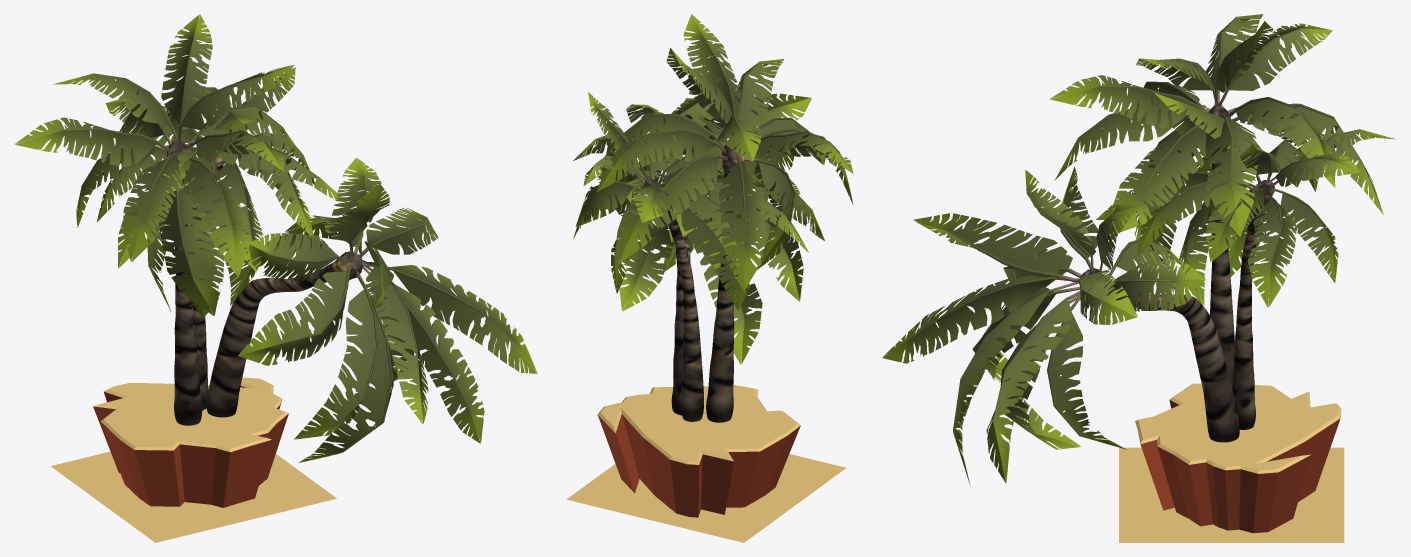
The model's file is palm_beach_var.glb.
The picture shows the model from 3 angles, left to right: view 1: azimuth 30°, elevation 25°; view 2: azimuth 150°, elevation 25°; view 3: azimuth 270°, elevation 25°; orthographic projection. The views are drawn at different scales.
Parts seen in each view (by area): view 1: Circle.001_2, Circle_0, Plane_4, Circle.002_3; view 2: Circle_0, Plane_4, Circle.002_3, Circle.001_2; view 3: Circle.001_2, Plane_4, Circle_0, Circle.002_3.
Part boxes in pixels (x1,y1,x2,y2): Circle.001_2: [206, 157, 537, 462]; Circle_0: [15, 14, 347, 425]; Plane_4: [50, 377, 336, 542]; Circle.002_3: [97, 67, 314, 410]; Circle_0: [596, 14, 853, 422]; Plane_4: [566, 384, 845, 542]; Circle.002_3: [573, 92, 808, 421]; Circle.001_2: [573, 55, 824, 415]; Circle.001_2: [882, 166, 1239, 486]; Plane_4: [1119, 383, 1344, 542]; Circle_0: [1050, 14, 1383, 387]; Circle.002_3: [1096, 92, 1395, 429].
Bounding box in the file's own units: 37.95 × 40.58 × 38.99.
Materials: 3 (1 with a texture image).
